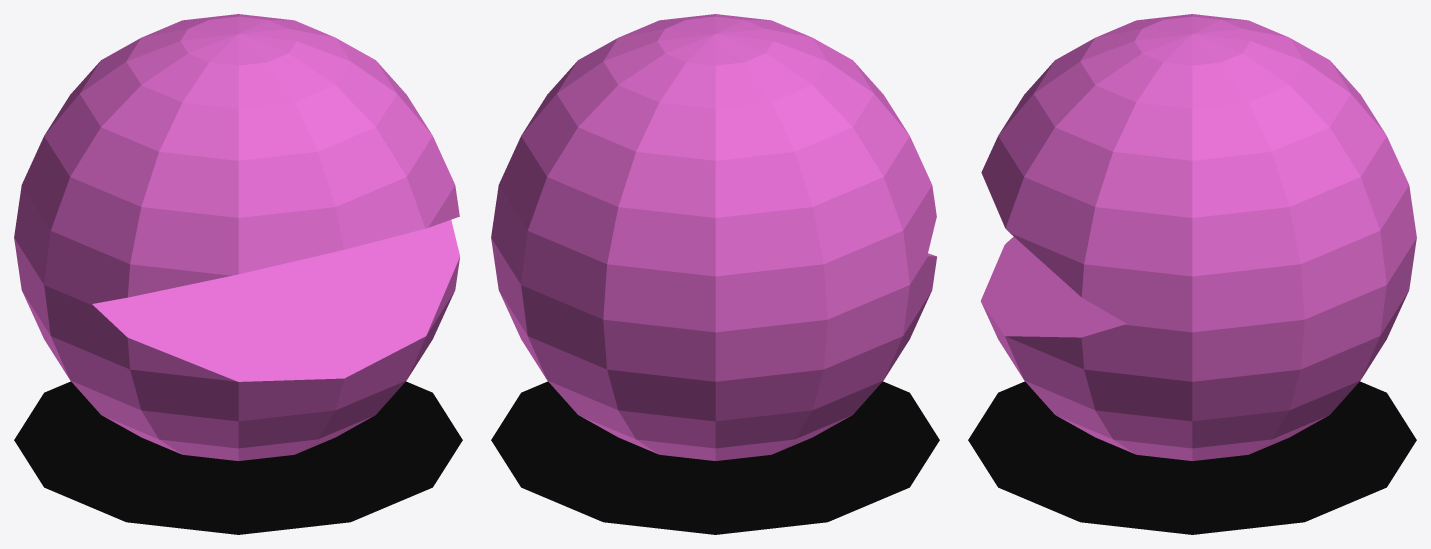
File: Pink.fbx
3 views of the same model, side by side, from view 1: azimuth 30°, elevation 25°; view 2: azimuth 150°, elevation 25°; view 3: azimuth 270°, elevation 25° (orthographic).
Parts seen in each view (by area): view 1: pCylinder2; view 2: pCylinder2; view 3: pCylinder2.
Part boxes in pixels (x1=…): pCylinder2: x1=14, y1=14, x2=462, y2=534; pCylinder2: x1=491, y1=14, x2=939, y2=534; pCylinder2: x1=968, y1=14, x2=1416, y2=534.
Size of the model in its own units: 0.6 by 0.6 by 0.6.
